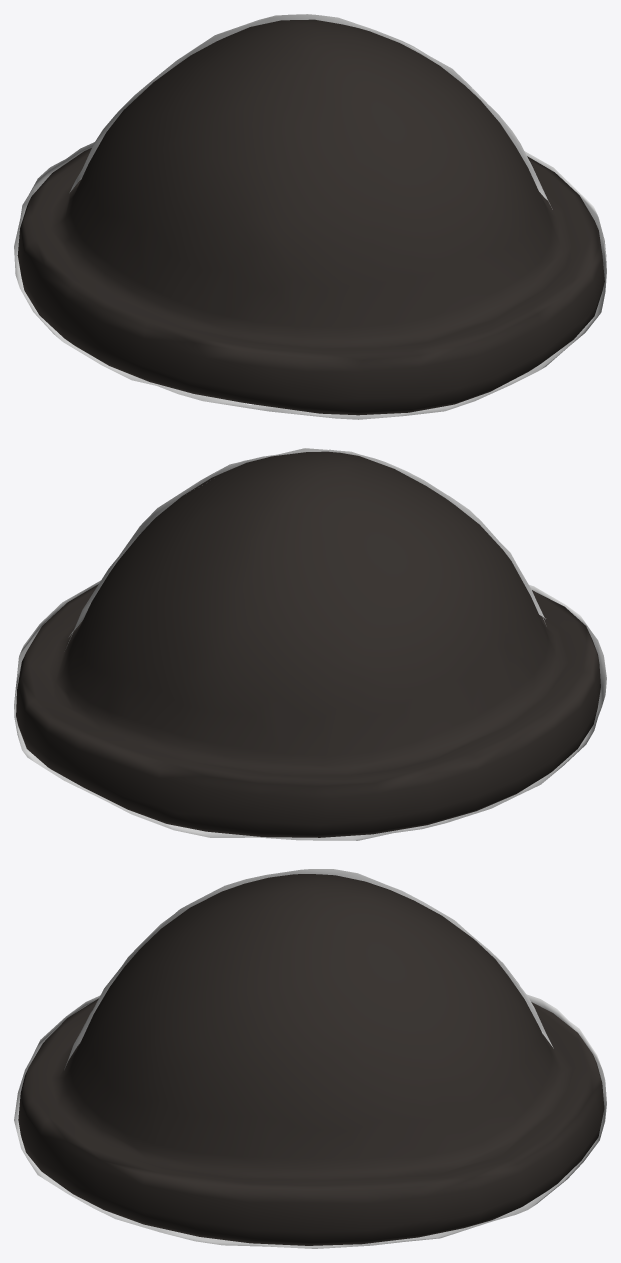
The model's file is outfit_beanie.glb.
3 renders of one model, top to bottom at view 1: azimuth 30°, elevation 25°; view 2: azimuth 150°, elevation 25°; view 3: azimuth 270°, elevation 25°, orthographic. The views are drawn at different scales.
Visible parts, largest first — view 1: outfit_beanie; view 2: outfit_beanie; view 3: outfit_beanie.
Part boxes in pixels (bbox=[...]): outfit_beanie: bbox=[14, 14, 606, 419]; outfit_beanie: bbox=[14, 448, 606, 840]; outfit_beanie: bbox=[14, 869, 606, 1248].
Bounding box in the file's own units: 0.5698 × 0.3001 × 0.6019.
Materials: 2 (1 with a texture image).
